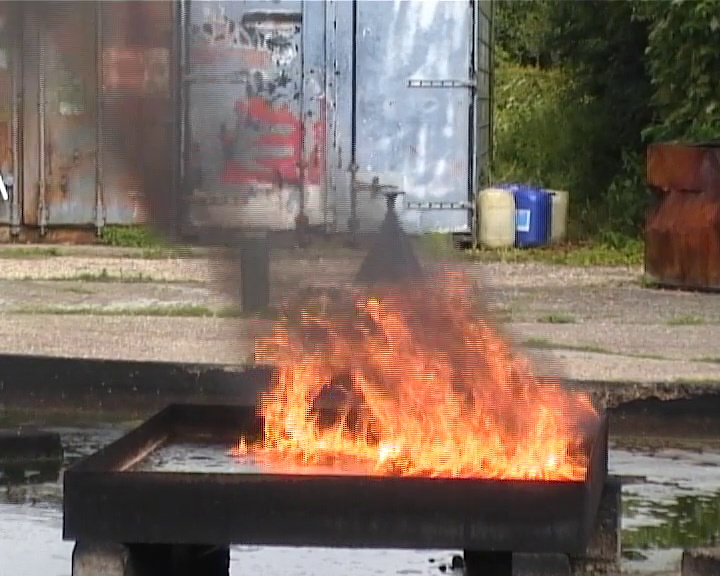fire: (259, 290, 587, 480)
